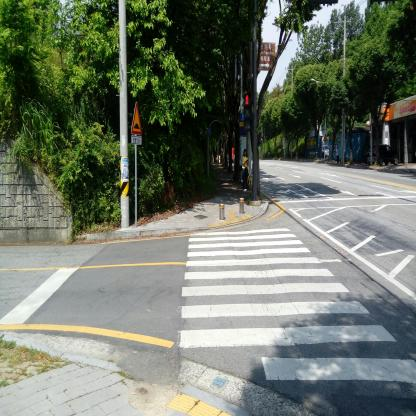Red: (244, 93, 250, 130)
